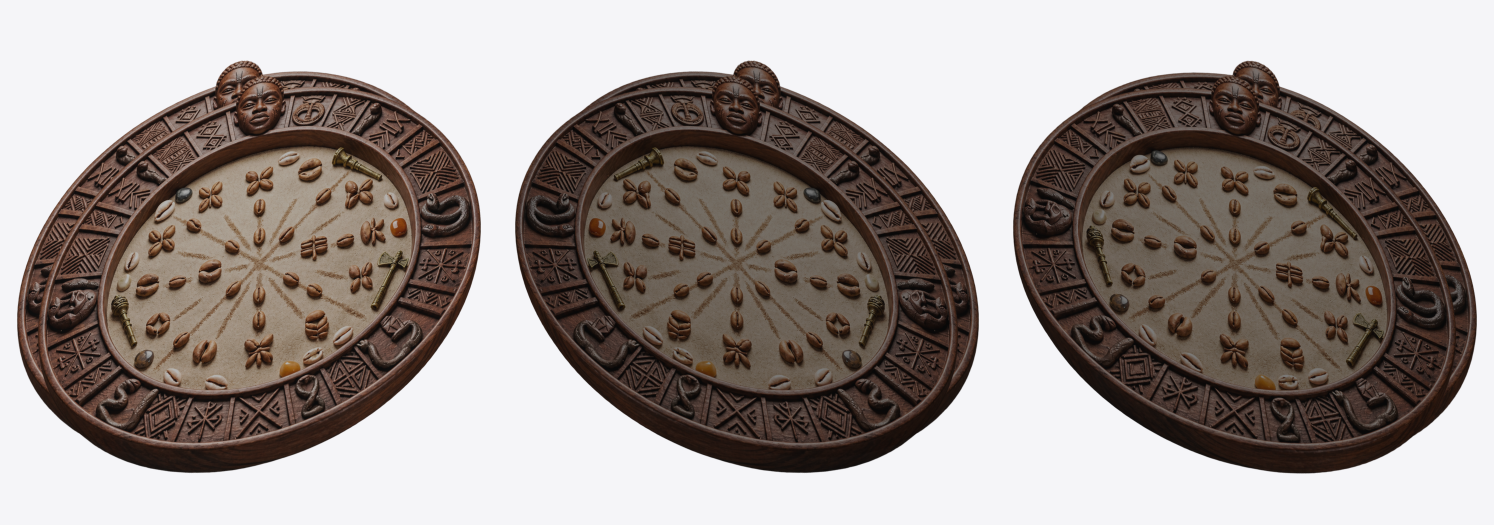
Rendered from opon.glb.
3 renders of one model, left to right at view 1: azimuth 30°, elevation 25°; view 2: azimuth 150°, elevation 25°; view 3: azimuth 330°, elevation 25°, orthographic.
Visible parts, largest first — view 1: world; view 2: world; view 3: world.
Boxes of the visible parts, x1,y1,x2,y2 form: world: (17,60,480,472); world: (515,60,978,472); world: (1013,61,1476,473).
Size of the model in its own units: 2 by 2 by 0.16.
1 material, 1 textured.
